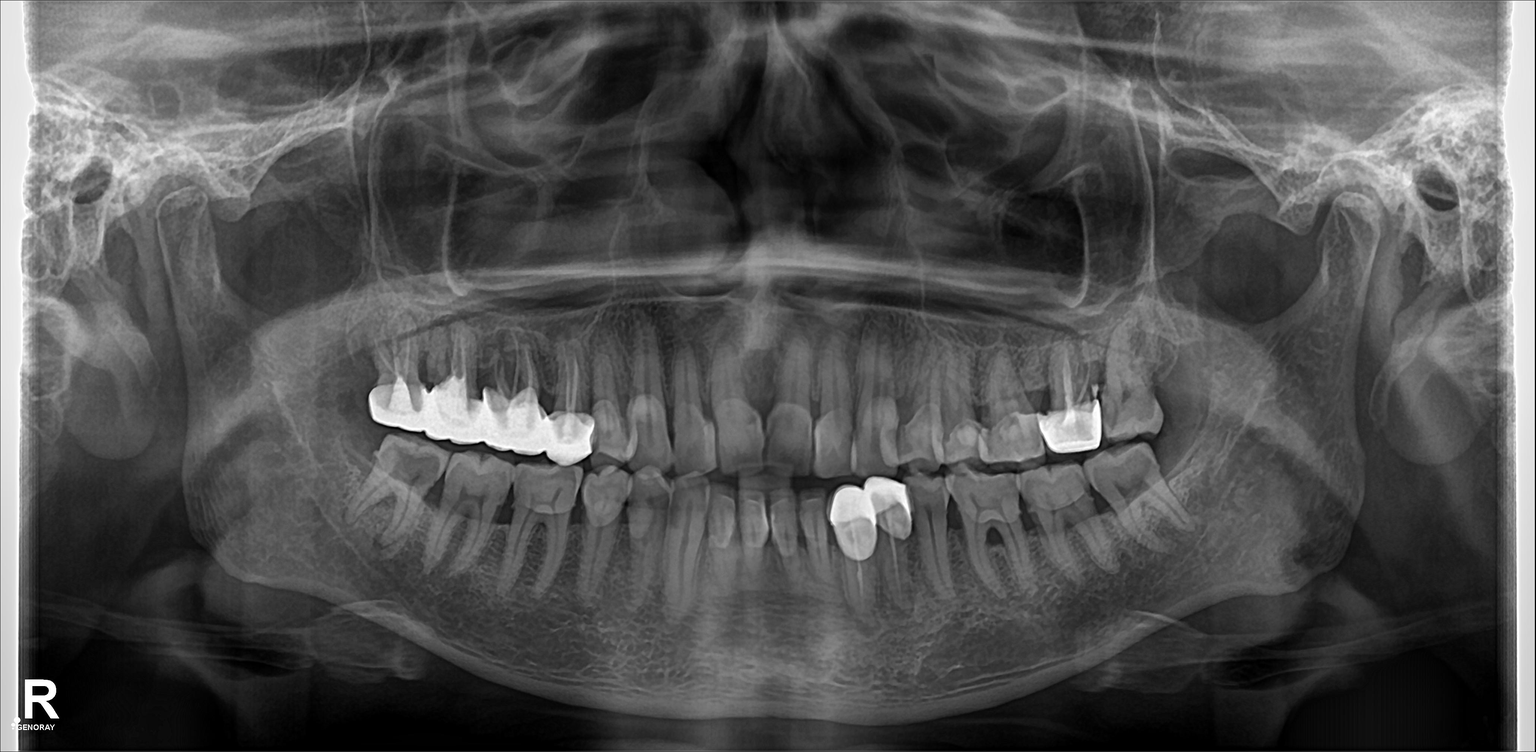Dental Caries: (384, 445, 438, 484)
Endodontically Treated Tooth: (1035, 346, 1105, 447), (827, 486, 876, 609), (872, 475, 918, 602), (371, 344, 425, 439), (425, 337, 472, 444), (514, 335, 550, 450), (479, 331, 514, 448), (551, 341, 585, 460)
Missing Tooth: (1158, 329, 1195, 435), (330, 333, 366, 429)
